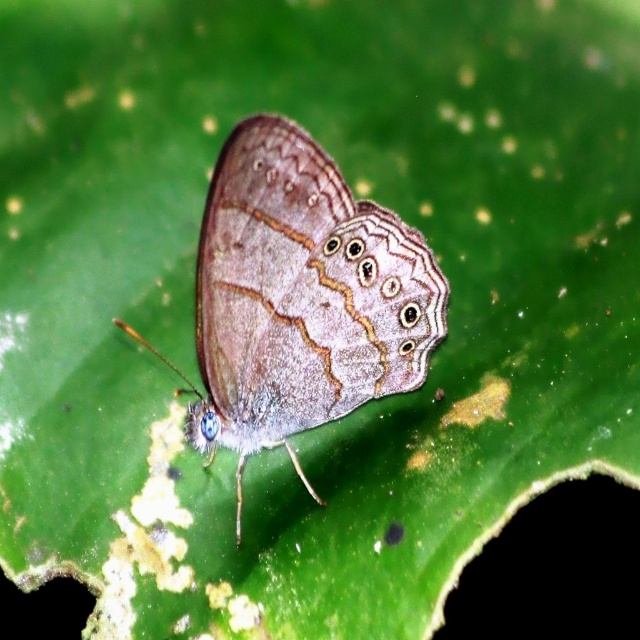Butterfly: (113, 114, 451, 550)
